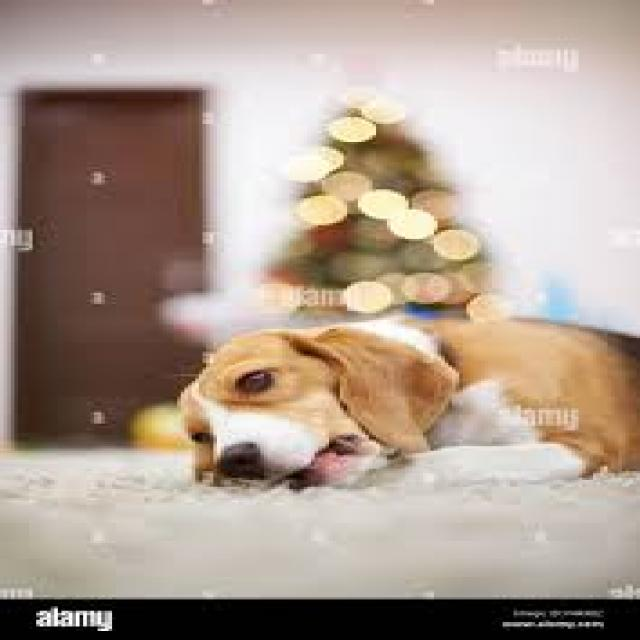Dog: (171, 305, 640, 492)
